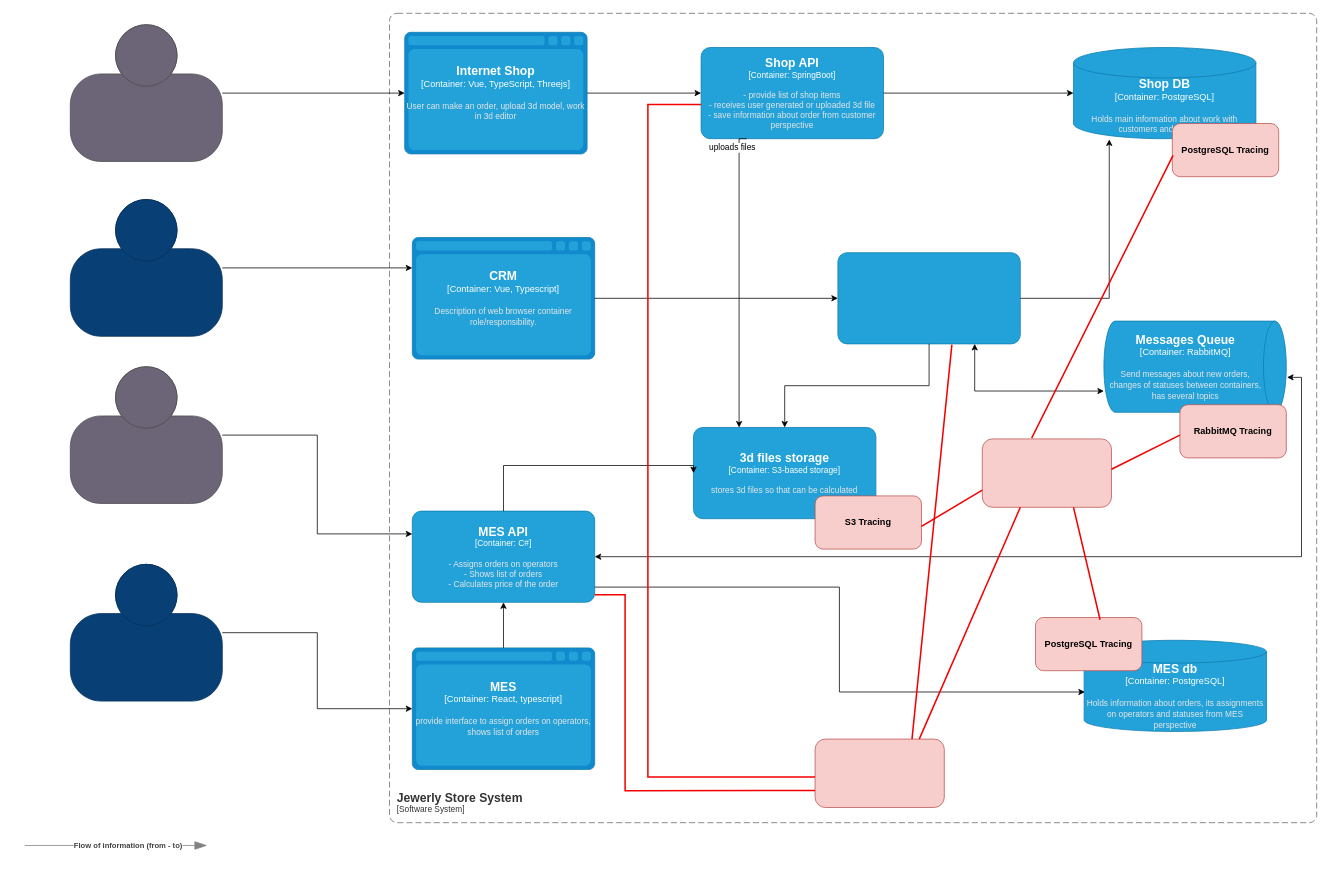
Some shapes in this 1330 by 871 pixel diagram are drawn without their labels. The shapes that lost their labels are listed below. From the top down, each one's centre as x and y in pixels, then its label:
At (146,93): "Customer [Person] Description of external person.".
At (146,267): "Seller [Person] Operates with order, confirms manufacturing for the user".
At (928,298): "CRM API [Container: SpringBoot] Description of container role/responsibility.".
At (146,435): "API user [Person] Description of external person.".
At (1047,472): "Jaeger Tracing".
At (146,632): "Operator [Person] Takes order in work, manufactures jewerly".
At (879,773): "OpenTelemetry SDK".
